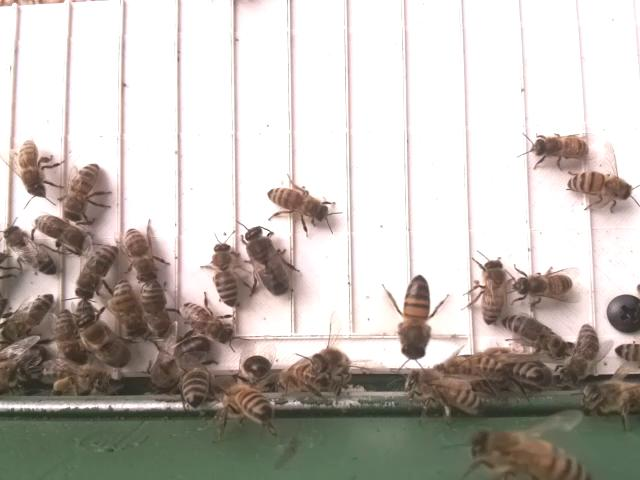Drone: (143, 334, 211, 393), (242, 223, 294, 300), (75, 312, 135, 372)
Worker: (396, 273, 434, 363), (1, 222, 60, 278), (0, 290, 57, 343), (556, 323, 598, 391), (264, 185, 336, 224), (503, 310, 564, 356), (183, 300, 238, 344), (111, 276, 147, 341), (76, 246, 120, 299), (65, 159, 101, 222), (208, 239, 241, 307), (473, 259, 505, 325), (30, 212, 86, 249), (565, 169, 632, 199), (17, 138, 50, 197), (512, 271, 574, 302), (53, 307, 85, 366), (142, 276, 173, 335), (529, 132, 592, 161), (123, 224, 155, 277)
